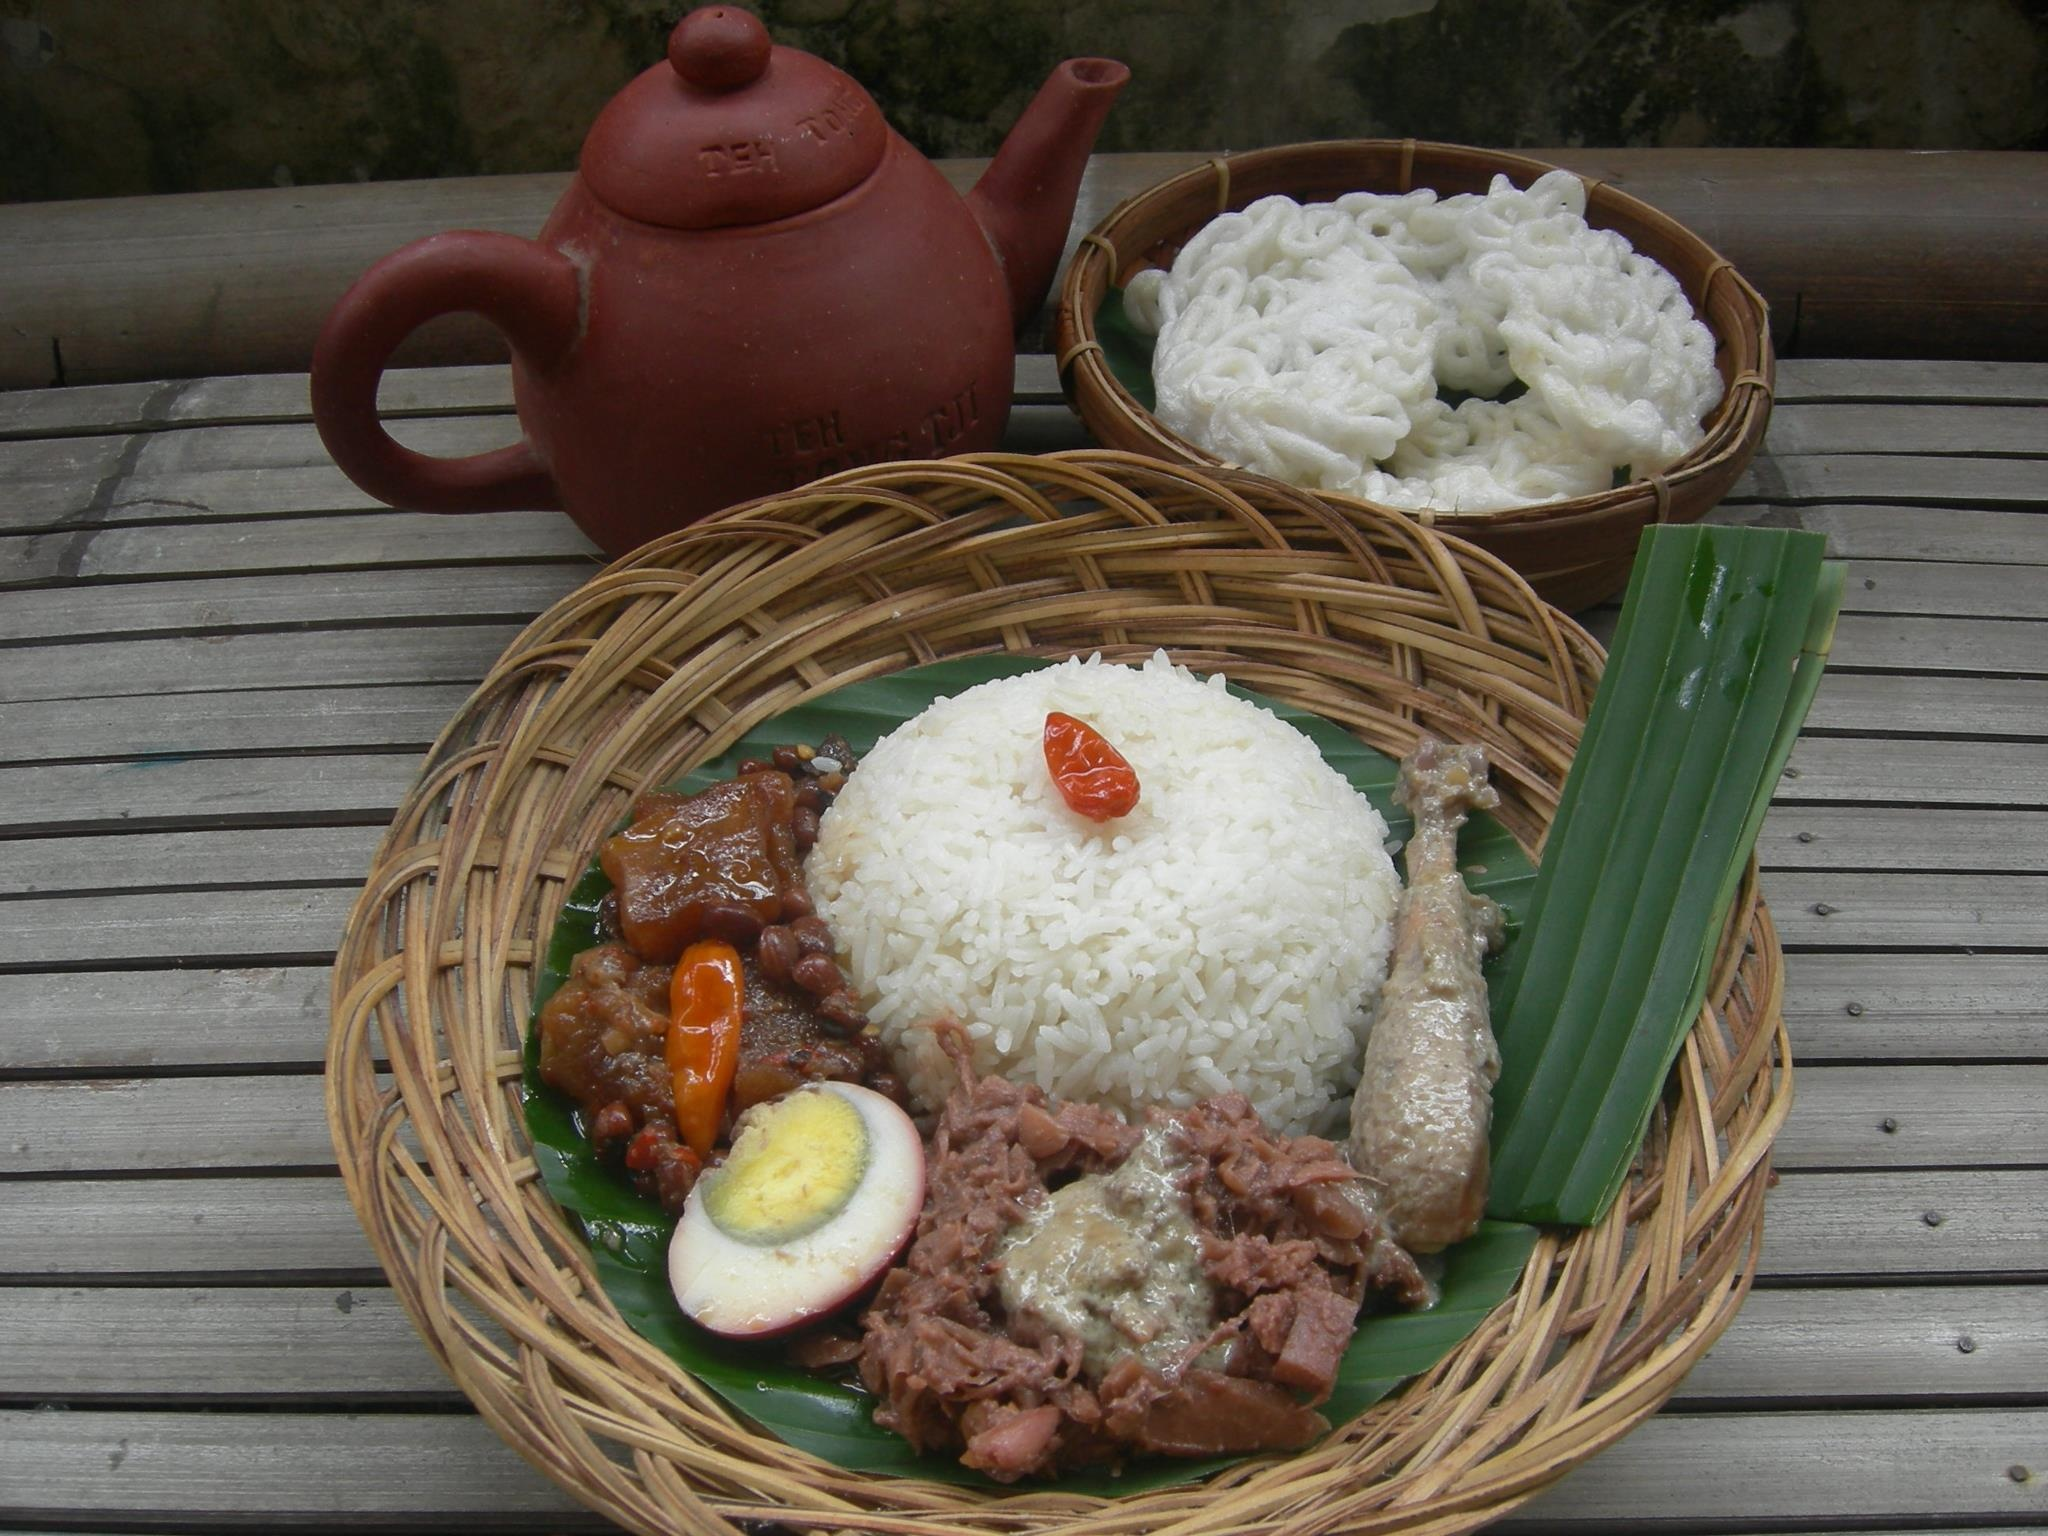gudeg: (537, 660, 1505, 1481)
